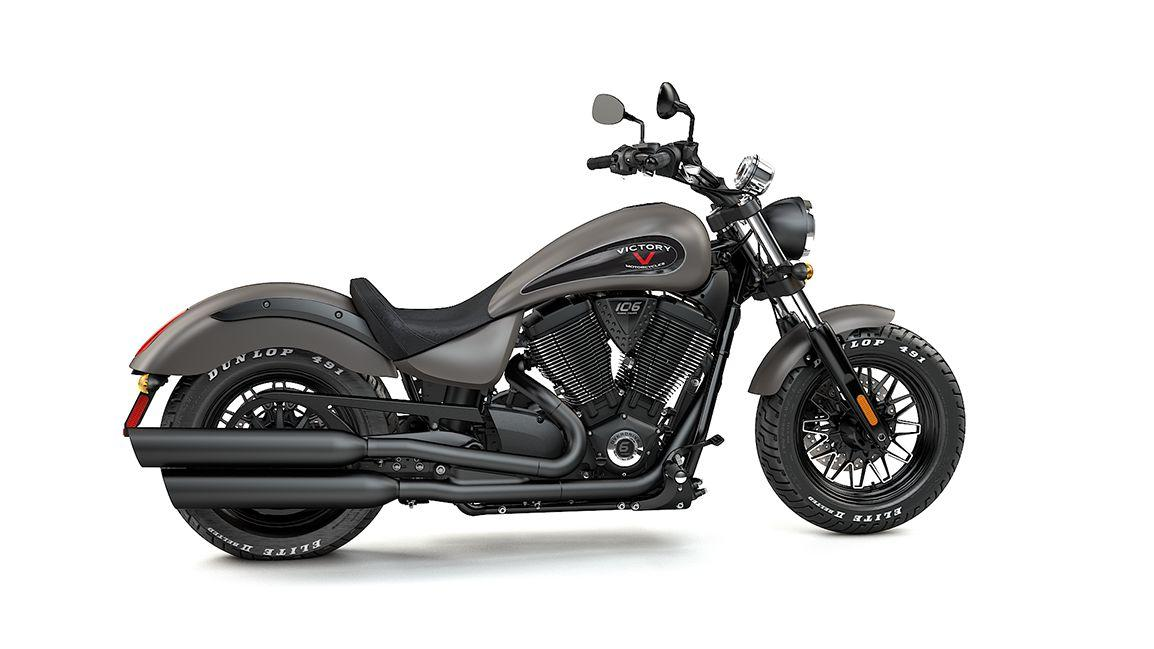motorcycle: (121, 62, 971, 572)
